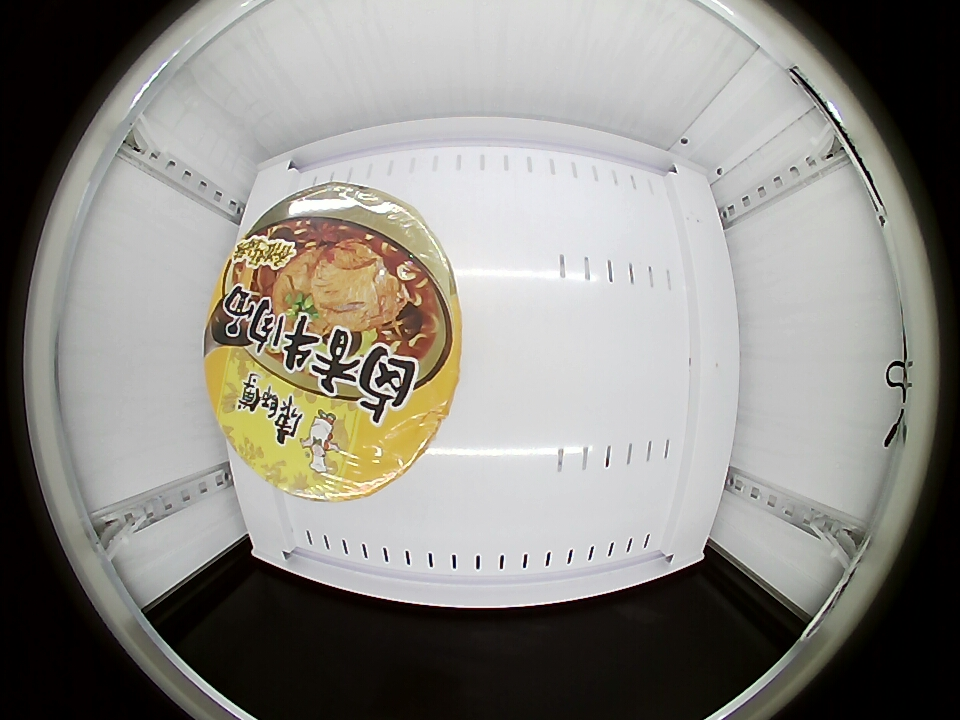luxiangniurou: (204, 185, 461, 504)
